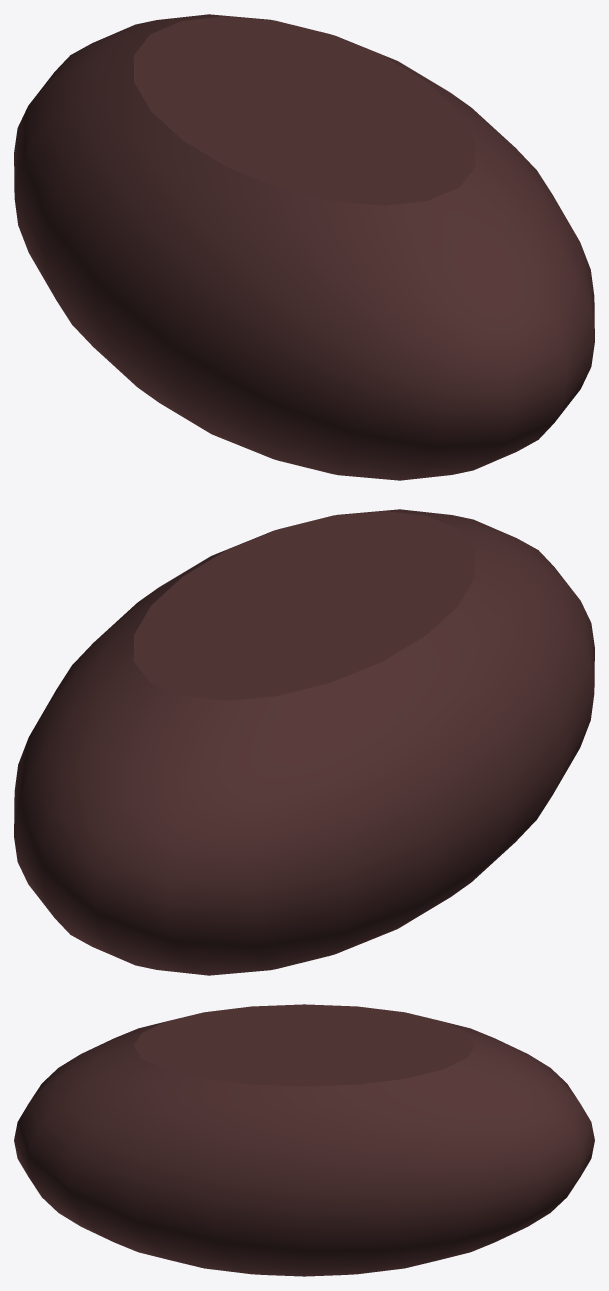
File: coffeebean.fbx
3 views of the same model, one above another, from view 1: azimuth 30°, elevation 25°; view 2: azimuth 150°, elevation 25°; view 3: azimuth 270°, elevation 25° (orthographic). The views are drawn at different scales.
Visible parts, largest first — view 1: pSphere1; view 2: pSphere1; view 3: pSphere1.
Boxes of the visible parts, x1,y1,x2,y2 form: pSphere1: (14,14,594,480); pSphere1: (14,509,594,975); pSphere1: (14,1004,594,1276).
Bounding box in the file's own units: 1.52 × 1.05 × 2.67.
